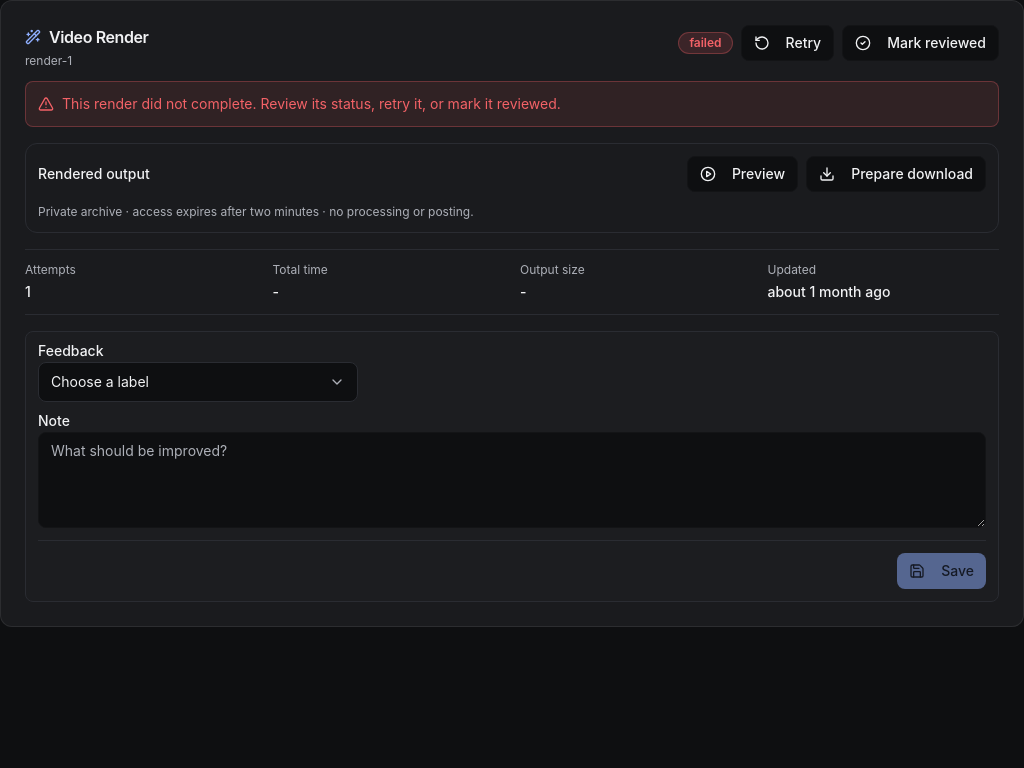
Test: video render detail review states › requires confirmation before a retry can invoke processing
Later steps or results of the test are not shown.
Click the button "Retry" at x=787, y=43, box 741,25 -> 834,61
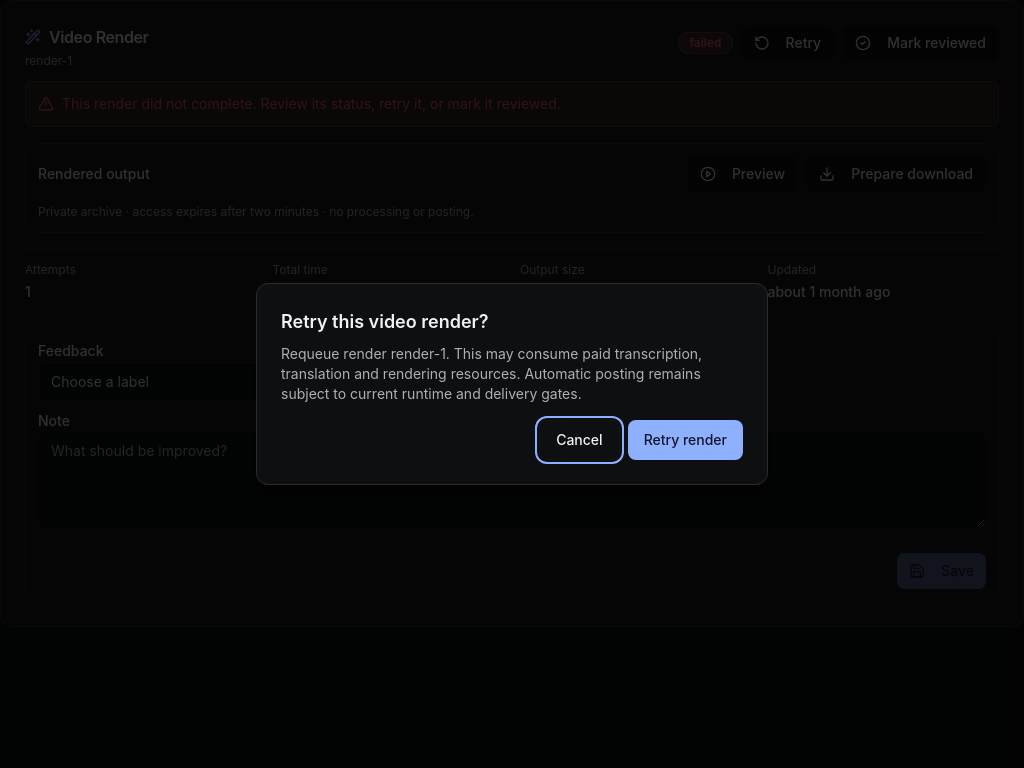
Expected: the dialog shows "paid transcription, translation and rendering resources", 281,345 -> 702,402
